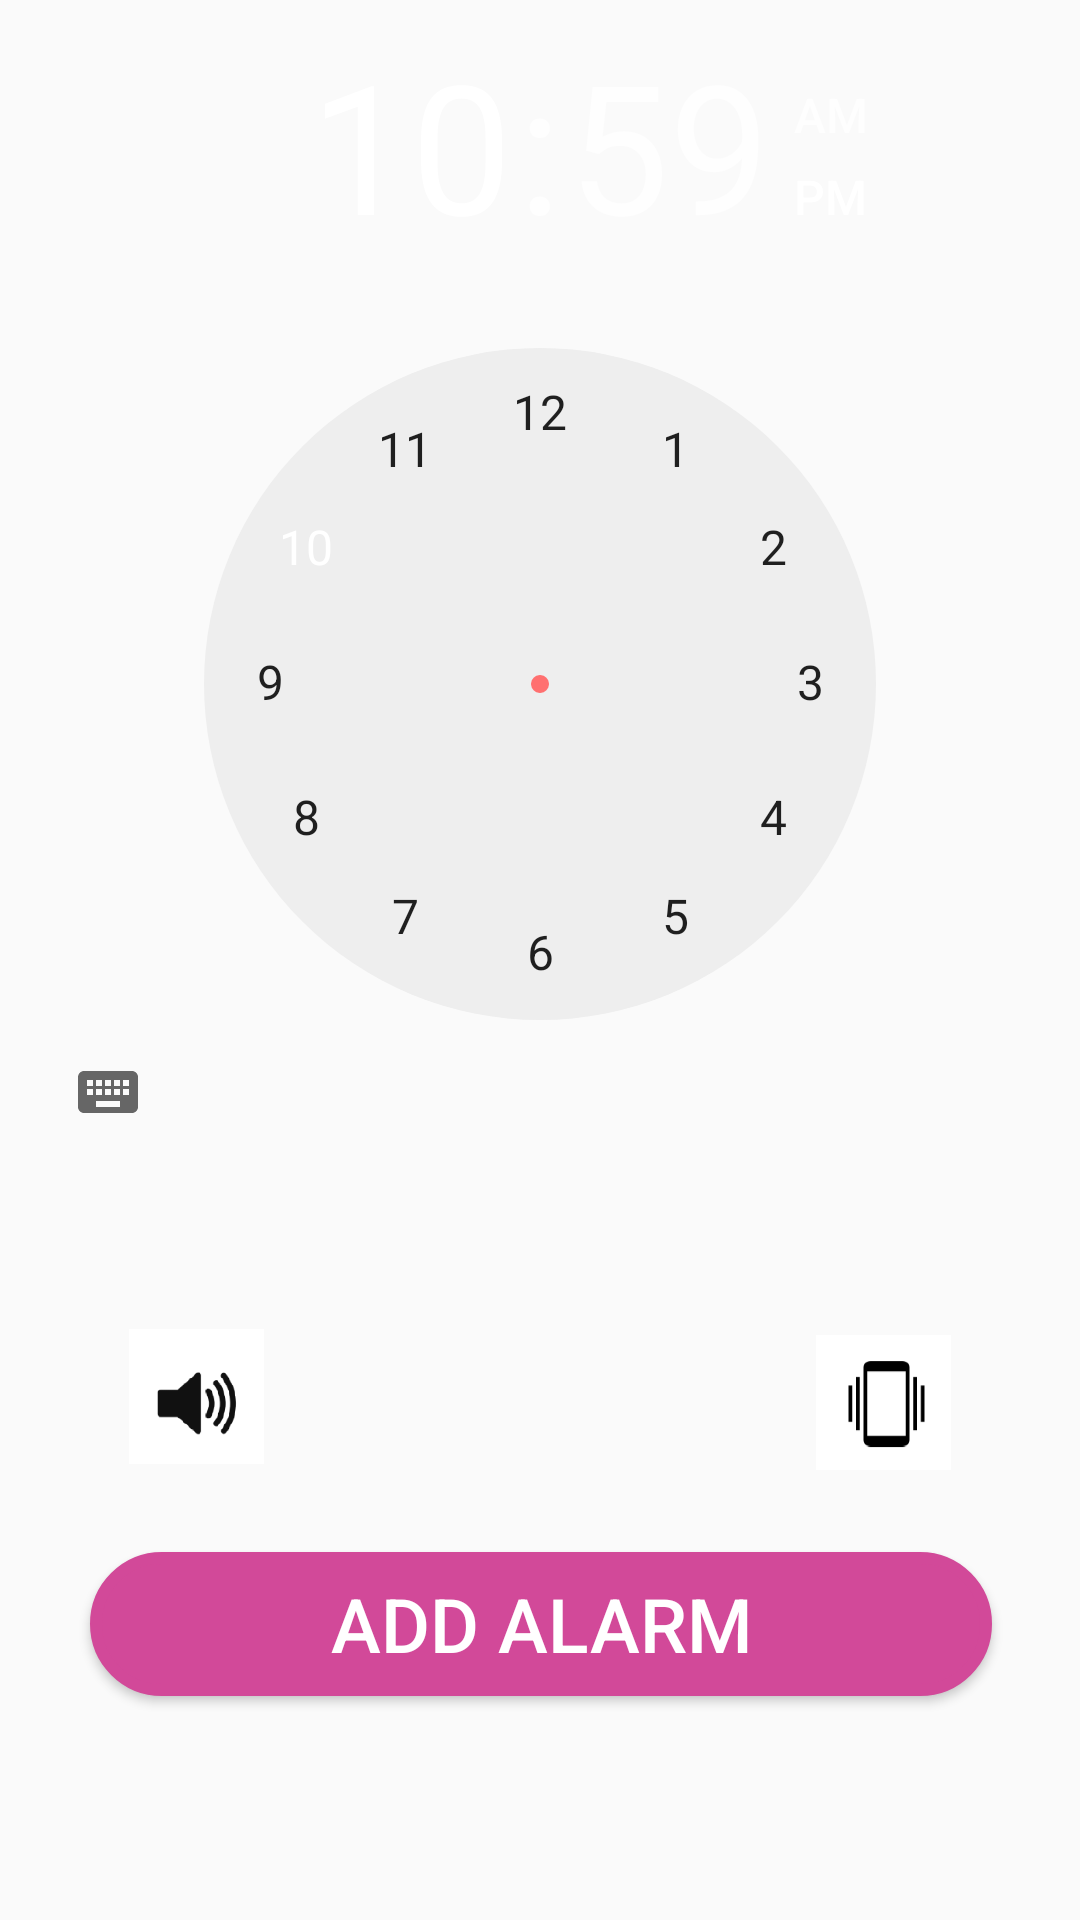

Icons on this 1080w x 1920h Android screen, each with its box as {"x1": x1, "y1": y1, "x2": x2, "y2": y2}:
sound: {"x1": 157, "y1": 1372, "x2": 236, "y2": 1435}
vib: {"x1": 848, "y1": 1361, "x2": 925, "y2": 1447}
